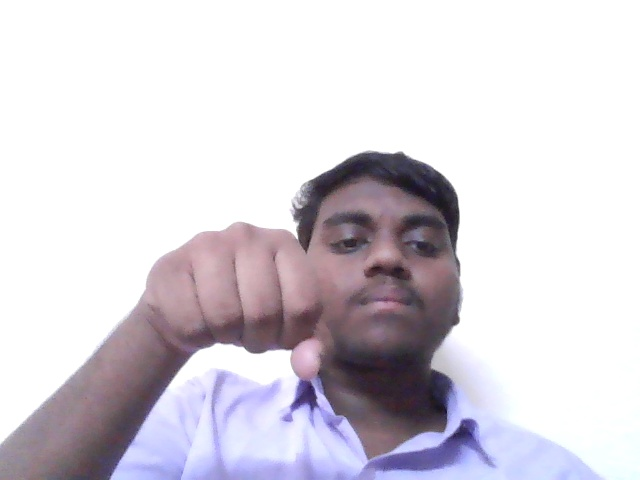Yes: (122, 214, 358, 387)
